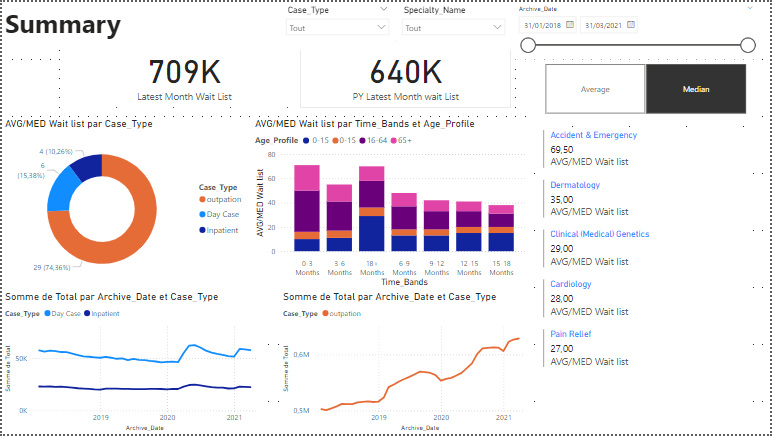

This screenshot's page, from the dashboard's own definition file:
{"tool":"powerbi","page":{"name":"summary","canvas":[1280,720],"ordinal":0},"visuals":[{"type":"card","fields":{"Values":["All_Data.Latest Month Wait List"]},"box":[176.7,80,320,111.7],"z":0},{"type":"card","fields":{"Values":["All_Data.PY Latest Month wait List"]},"box":[496.7,80,351.7,111.7],"z":1000},{"type":"slicer","fields":{"Values":["Calculation Method.Calc Method"]},"box":[912,96,320,96],"z":2000},{"type":"donutChart","fields":{"Category":["All_Data.Case_Type"],"Y":["All_Data.AVG/MED Wait list"]},"box":[32,208,384,272],"z":3000},{"type":"columnChart","fields":{"Y":["All_Data.AVG/MED Wait list"],"Category":["All_Data.Time_Bands"],"Series":["All_Data.Age_Profile"]},"box":[416,208,464,272],"z":4000},{"type":"multiRowCard","fields":{"Values":["All_Data.AVG/MED Wait list","All_Data.Specialty_Name"]},"box":[928.3,208.3,351.7,495],"z":5000},{"type":"lineChart","fields":{"Category":["All_Data.Archive_Date"],"Y":["Sum(All_Data.Total)"],"Series":["All_Data.Case_Type"]},"box":[32,480,384,224],"z":6000},{"type":"lineChart","fields":{"Category":["All_Data.Archive_Date"],"Y":["Sum(All_Data.Total)"],"Series":["All_Data.Case_Type"]},"box":[416,480,464,224],"z":7000},{"type":"slicer","fields":{"Values":["All_Data.Archive_Date"]},"box":[865,0,415,96.7],"z":8000},{"type":"slicer","fields":{"Values":["All_Data.Case_Type"]},"box":[448.3,0,208.3,80],"z":9000},{"type":"slicer","fields":{"Values":["All_Data.Specialty_Name"]},"box":[656,0,192,80],"z":10000},{"type":"textbox","box":[0,0,384,80],"z":11000},{"type":"card","fields":{"Values":["All_Data.AVG/MED Wait list"]},"box":[128.3,303.3,108.3,101.7],"z":12000},{"type":"shape","box":[163.3,96.7,685,96.7],"z":13000}]}

Visuals, with their boxes in screenshot pixels (x1, y1, x2, y2), scaled from the page's 1280x720 canvas onto the 773x437 screenshot:
card - All_Data.Latest Month Wait List: [x1=107, y1=49, x2=300, y2=116]
card - All_Data.PY Latest Month wait List: [x1=300, y1=49, x2=512, y2=116]
slicer - Calculation Method.Calc Method: [x1=551, y1=58, x2=744, y2=117]
donutChart - All_Data.Case_Type x All_Data.AVG/MED Wait list: [x1=19, y1=126, x2=251, y2=291]
columnChart - All_Data.AVG/MED Wait list x All_Data.Time_Bands: [x1=251, y1=126, x2=531, y2=291]
multiRowCard - All_Data.AVG/MED Wait list x All_Data.Specialty_Name: [x1=561, y1=126, x2=772, y2=427]
lineChart - All_Data.Archive_Date x Sum(All_Data.Total): [x1=19, y1=291, x2=251, y2=427]
lineChart - All_Data.Archive_Date x Sum(All_Data.Total): [x1=251, y1=291, x2=531, y2=427]
slicer - All_Data.Archive_Date: [x1=522, y1=0, x2=772, y2=59]
slicer - All_Data.Case_Type: [x1=271, y1=0, x2=397, y2=49]
slicer - All_Data.Specialty_Name: [x1=396, y1=0, x2=512, y2=49]
textbox: [x1=0, y1=0, x2=232, y2=49]
card - All_Data.AVG/MED Wait list: [x1=77, y1=184, x2=143, y2=246]
shape: [x1=99, y1=59, x2=512, y2=117]
